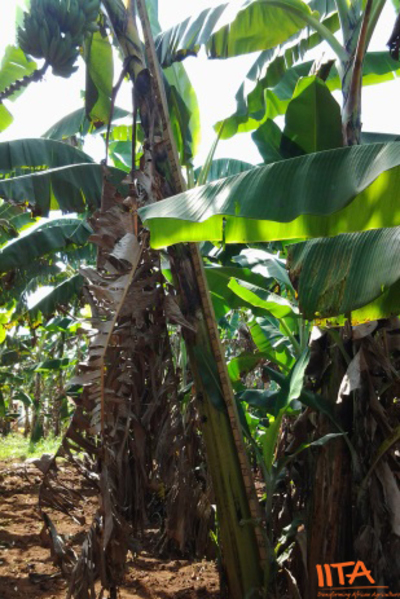bananaHand: (13, 1, 106, 80)
